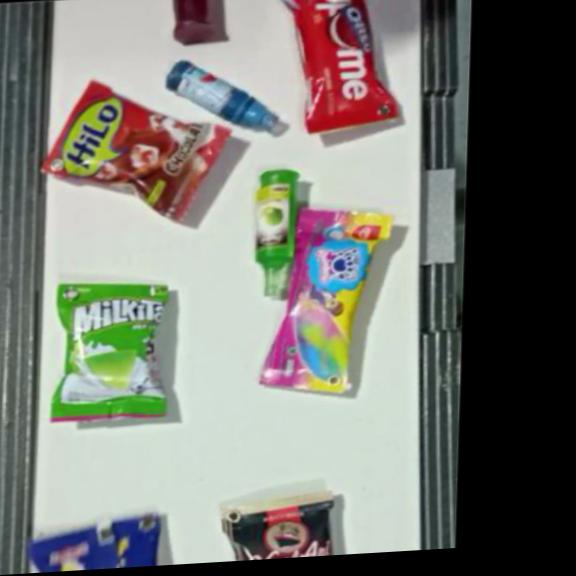Plastik: (39, 70, 235, 229), (260, 203, 394, 399), (272, 0, 404, 136), (51, 276, 172, 423), (163, 53, 281, 138), (27, 511, 161, 573), (221, 491, 336, 561), (253, 166, 297, 296), (169, 0, 219, 43)
